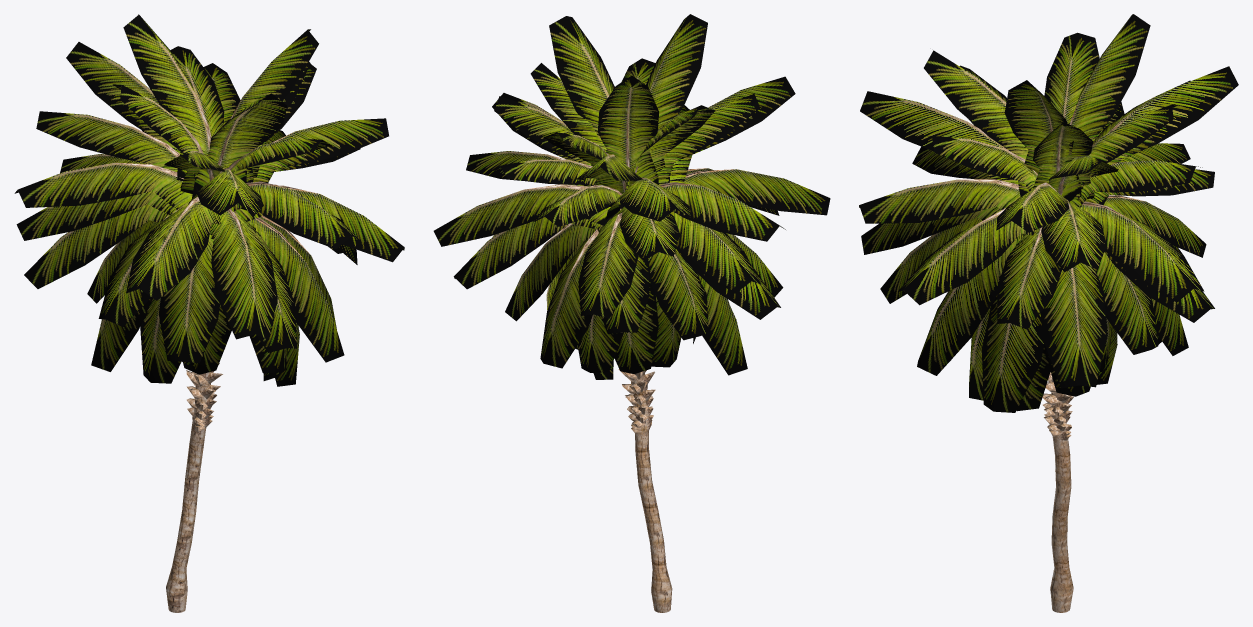
Rendered from palm00_mq.gltf.
3 renders of one model, left to right at view 1: azimuth 30°, elevation 25°; view 2: azimuth 150°, elevation 25°; view 3: azimuth 270°, elevation 25°, orthographic. The views are drawn at different scales.
Parts seen in each view (by area): view 1: palm02, date_palm_leaf; view 2: palm02, date_palm_leaf; view 3: palm02, date_palm_leaf.
Boxes of the visible parts, x1=… form: palm02: x1=14, y1=14, x2=404, y2=386; date_palm_leaf: x1=116, y1=94, x2=317, y2=612; palm02: x1=433, y1=14, x2=830, y2=379; date_palm_leaf: x1=525, y1=114, x2=733, y2=612; palm02: x1=859, y1=14, x2=1238, y2=412; date_palm_leaf: x1=961, y1=101, x2=1144, y2=612.
Bounding box in the file's own units: 72.52 × 120 × 69.7.
Materials: 2 (2 with a texture image).
